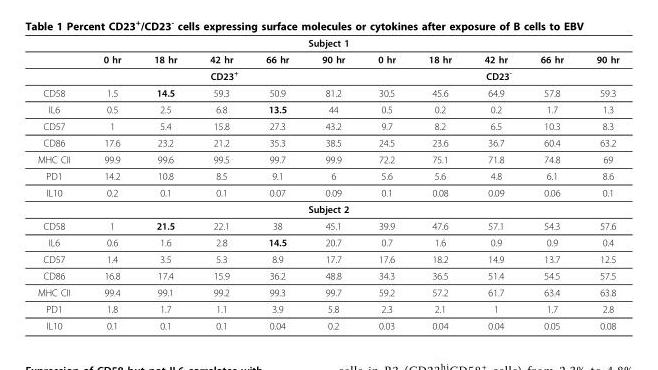table: (37, 36, 618, 330)
table column: (136, 36, 192, 330), (192, 36, 248, 330), (248, 36, 304, 330), (304, 36, 360, 330), (411, 36, 467, 330), (467, 36, 523, 330), (523, 36, 579, 330), (360, 36, 411, 330), (86, 36, 136, 330), (37, 36, 86, 330), (579, 36, 618, 330)
table column header: (37, 36, 618, 66)
table projected row header: (37, 200, 618, 217)
table row: (37, 66, 618, 84), (37, 100, 618, 117), (37, 117, 618, 134), (37, 150, 618, 167), (37, 167, 618, 184), (37, 200, 618, 217), (37, 233, 618, 250), (37, 250, 618, 267), (37, 283, 618, 300), (37, 300, 618, 317), (37, 50, 618, 66), (37, 84, 618, 100), (37, 134, 618, 150), (37, 184, 618, 200), (37, 217, 618, 233), (37, 267, 618, 283), (37, 36, 618, 50), (37, 317, 618, 330)
table spanning cell: (37, 36, 618, 50), (86, 66, 360, 84), (360, 66, 618, 84)
